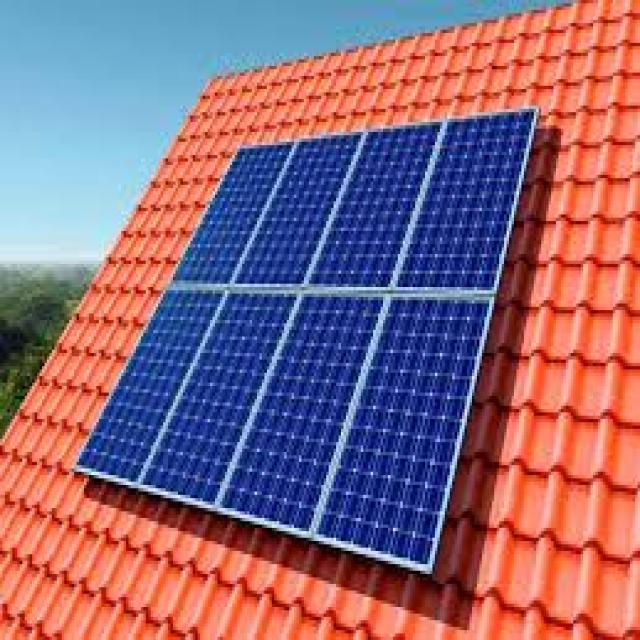Solar: (83, 103, 541, 574)
